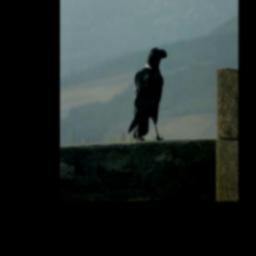Crow: (128, 46, 168, 141)
